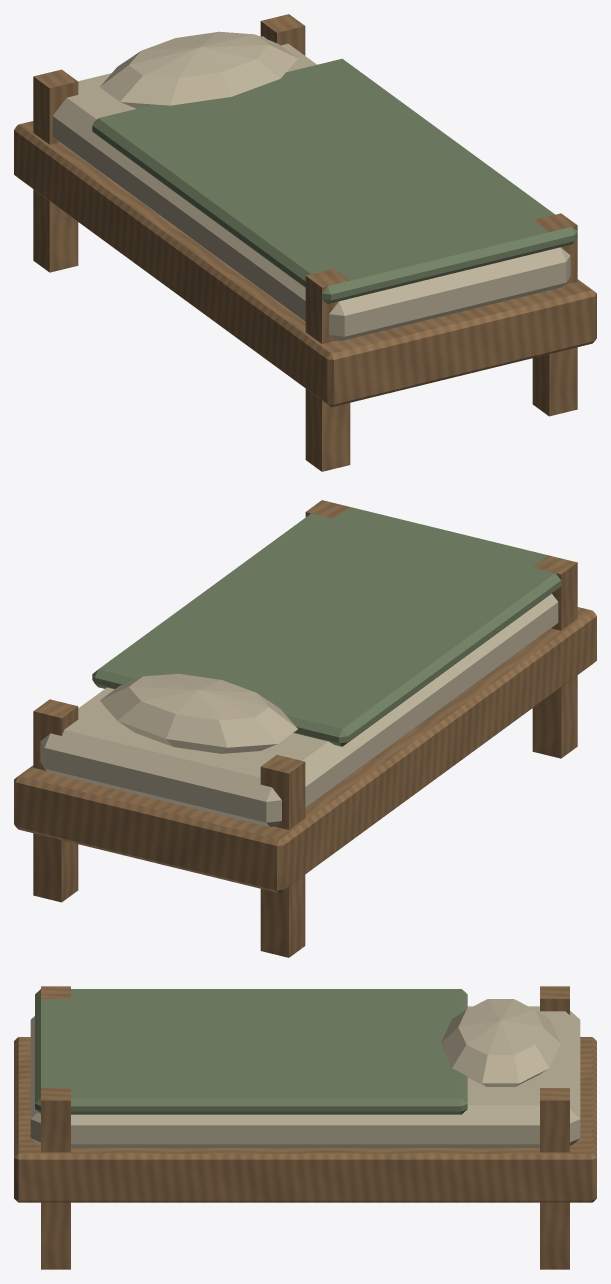
Rendered from bed.glb.
The picture shows the model from 3 angles, top to bottom: view 1: azimuth 30°, elevation 25°; view 2: azimuth 150°, elevation 25°; view 3: azimuth 270°, elevation 25°; orthographic projection. The views are drawn at different scales.
Parts seen in each view (by area): view 1: bed; view 2: bed; view 3: bed.
Part boxes in pixels (box(x1,y1,x2,y2)): bed: box(14, 14, 596, 471); bed: box(14, 500, 596, 957); bed: box(14, 986, 596, 1269).
Bounding box in the file's own units: 0.95 × 0.705 × 1.94.
Materials: 3 (1 with a texture image).
